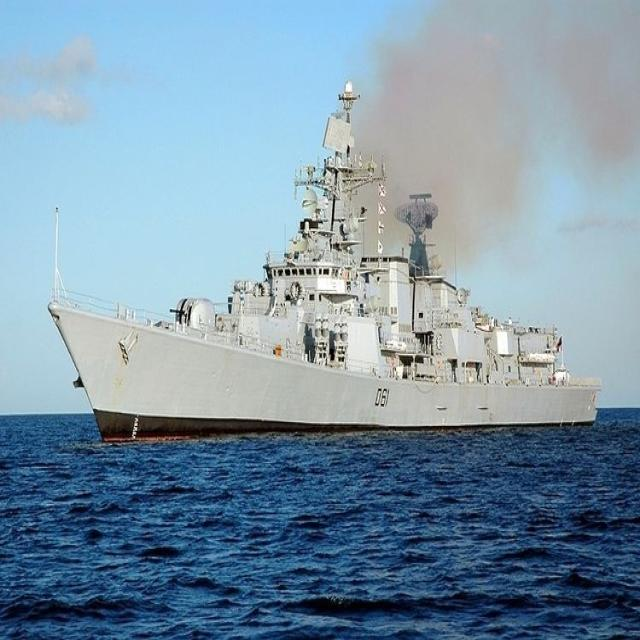Destroyer-Delhi-Class-IND: (47, 78, 602, 441)
